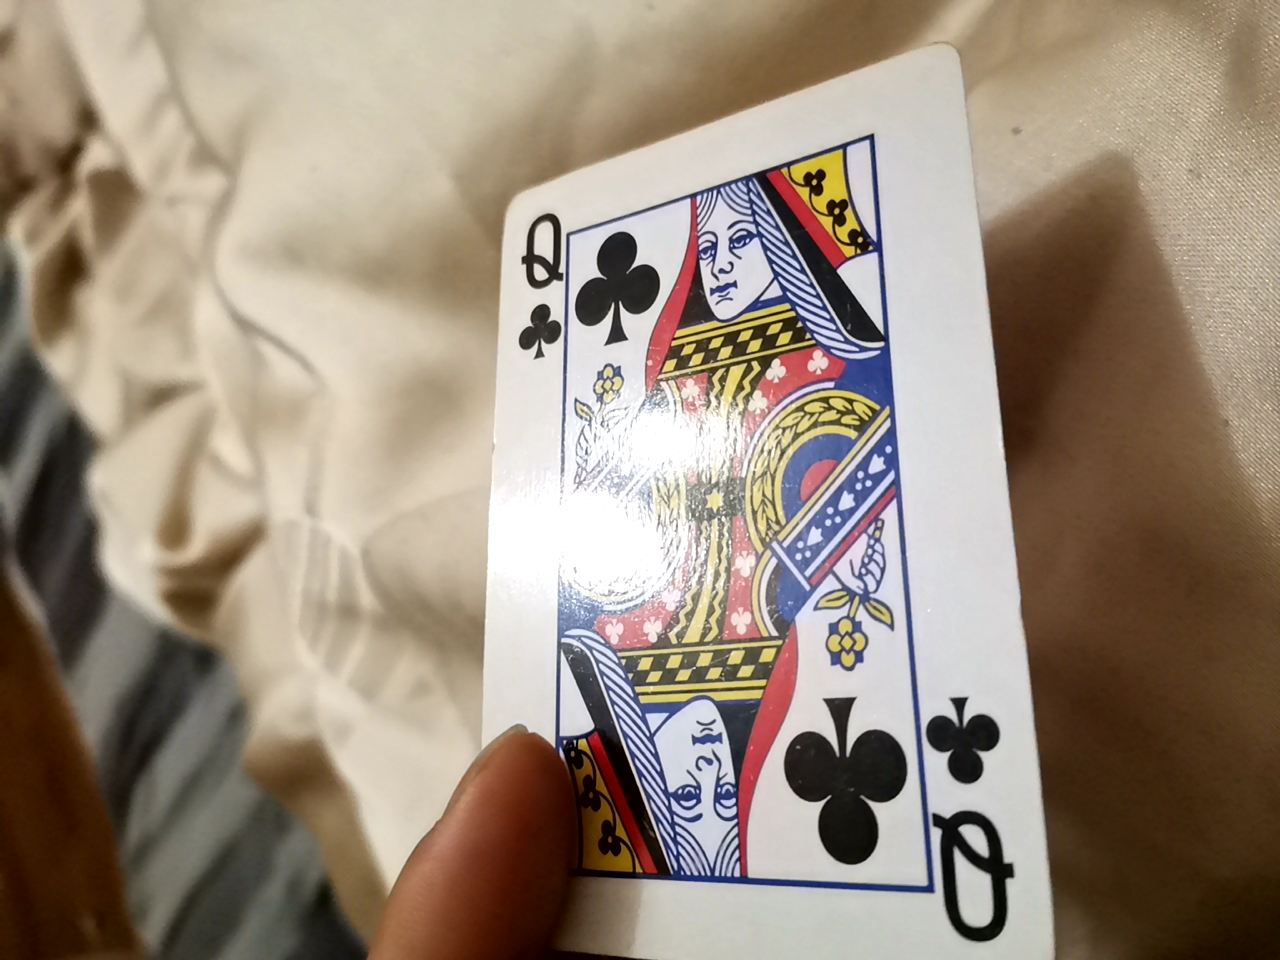mh q: (467, 38, 1022, 937)
